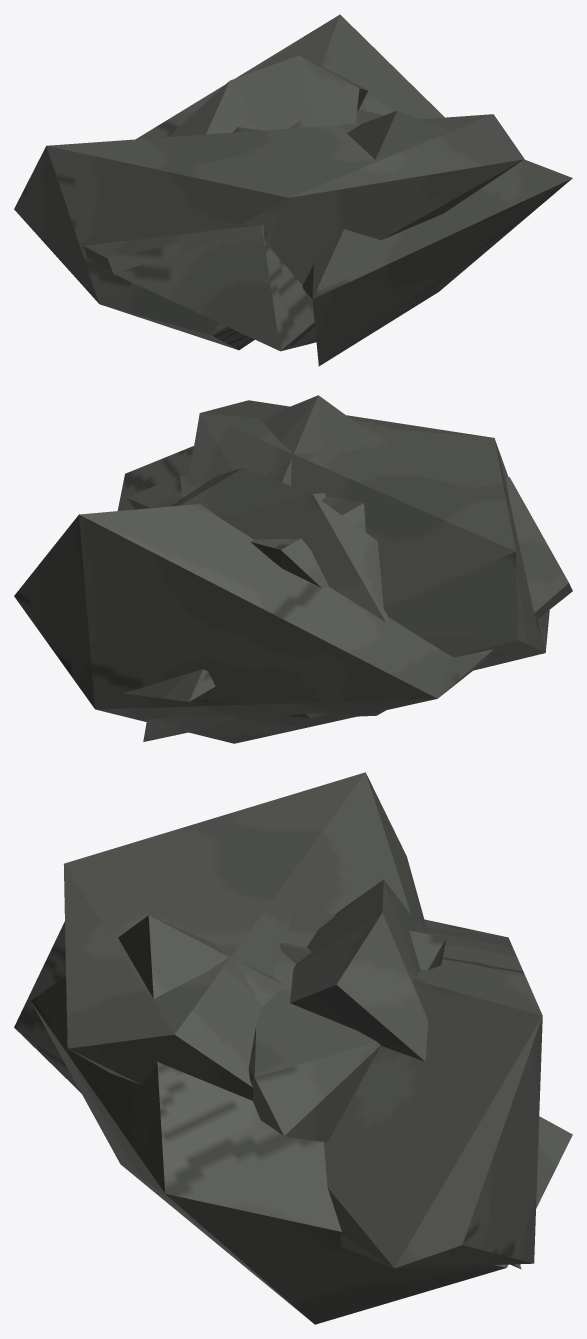
Rendered from redwood_rock_bits_v1.fbx.
The picture shows the model from 3 angles, top to bottom: view 1: azimuth 30°, elevation 25°; view 2: azimuth 150°, elevation 25°; view 3: azimuth 270°, elevation 25°; orthographic projection. The views are drawn at different scales.
Visible parts, largest first — view 1: redwood_rock_bit3_v1, redwood_rock_bit5_v1, redwood_rock_bit1_v1, redwood_rock_bit2_v1; view 2: redwood_rock_bit5_v1, redwood_rock_bit3_v1, redwood_rock_bit2_v1, redwood_rock_bit1_v1, redwood_rock_bit4_v1; view 3: redwood_rock_bit3_v1, redwood_rock_bit5_v1, redwood_rock_bit1_v1, redwood_rock_bit4_v1, redwood_rock_bit2_v1.
Boxes of the visible parts, <box> form: redwood_rock_bit3_v1: <box>14,114,524,350</box>; redwood_rock_bit5_v1: <box>83,14,444,351</box>; redwood_rock_bit1_v1: <box>302,110,572,366</box>; redwood_rock_bit2_v1: <box>169,55,367,136</box>; redwood_rock_bit5_v1: <box>14,477,572,743</box>; redwood_rock_bit3_v1: <box>143,400,549,741</box>; redwood_rock_bit2_v1: <box>171,468,388,718</box>; redwood_rock_bit1_v1: <box>117,395,364,701</box>; redwood_rock_bit4_v1: <box>127,475,365,588</box>; redwood_rock_bit3_v1: <box>63,772,521,1269</box>; redwood_rock_bit5_v1: <box>14,919,542,1268</box>; redwood_rock_bit1_v1: <box>31,915,572,1324</box>; redwood_rock_bit4_v1: <box>248,907,446,1142</box>; redwood_rock_bit2_v1: <box>290,879,428,1061</box>.
Size of the model in its own units: 70.48 by 37.25 by 52.64.
